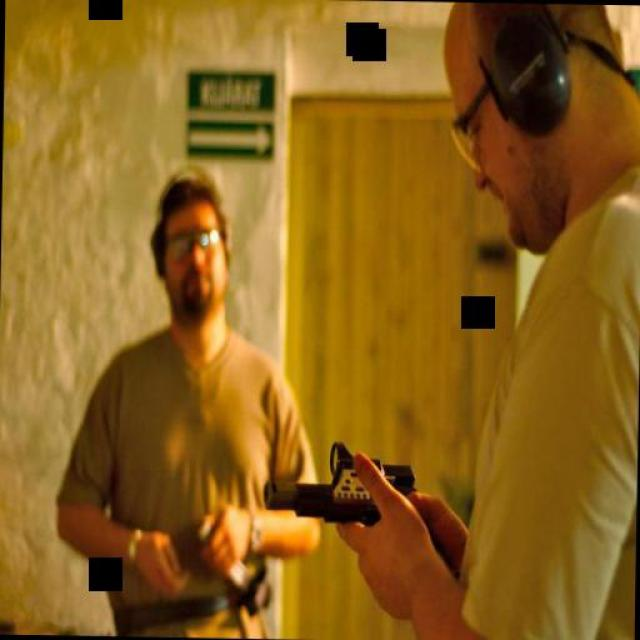gun: (259, 435, 419, 535)
